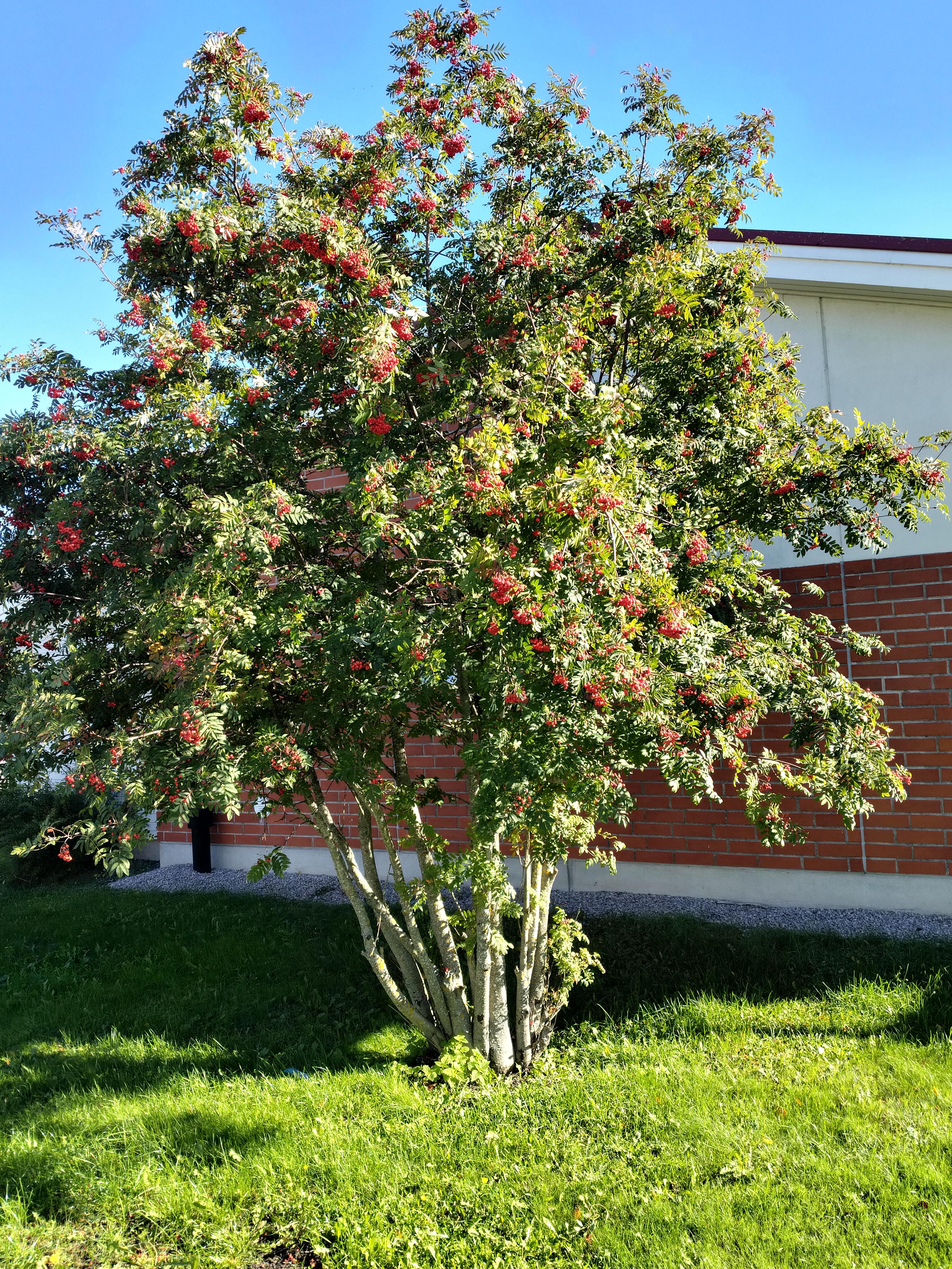Rowan: (2, 1, 949, 1079)
